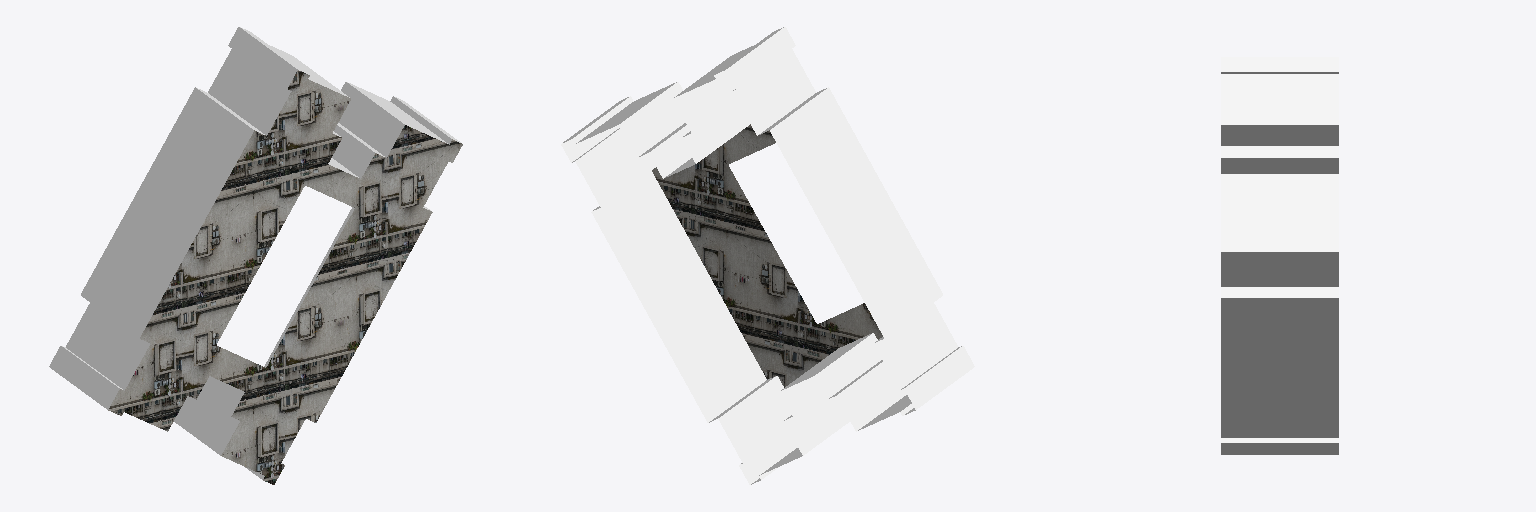
3 renders of one model, left to right at view 1: azimuth 30°, elevation 25°; view 2: azimuth 150°, elevation 25°; view 3: azimuth 270°, elevation 25°, orthographic.
Visible parts, largest first — view 1: Building; view 2: Building; view 3: Building.
Boxes of the visible parts, x1=… form: Building: x1=49, y1=27, x2=462, y2=484; Building: x1=561, y1=27, x2=974, y2=484; Building: x1=1221, y1=57, x2=1338, y2=454.
Size of the model in its own units: 51.87 by 57.19 by 15.
2 materials, 1 textured.